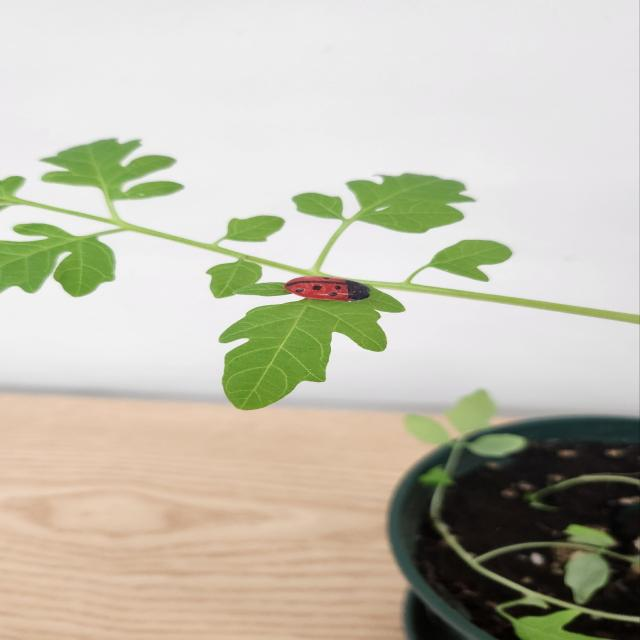bug: (256, 271, 384, 315)
